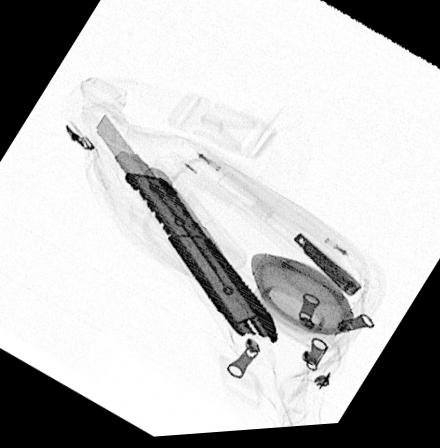Knife: (94, 113, 278, 346)
